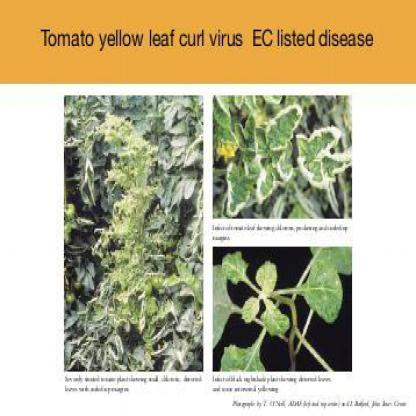tomato leaf yellow virus: (299, 255, 351, 327), (297, 125, 349, 192), (266, 100, 306, 151), (223, 158, 256, 215), (251, 260, 282, 301), (252, 158, 280, 202)
